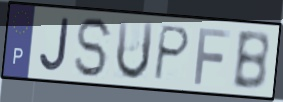B: (230, 29, 272, 93)
F: (192, 25, 233, 87)
J: (37, 16, 72, 74)
P: (151, 23, 193, 83)
S: (73, 15, 115, 80)
U: (113, 18, 156, 83)
